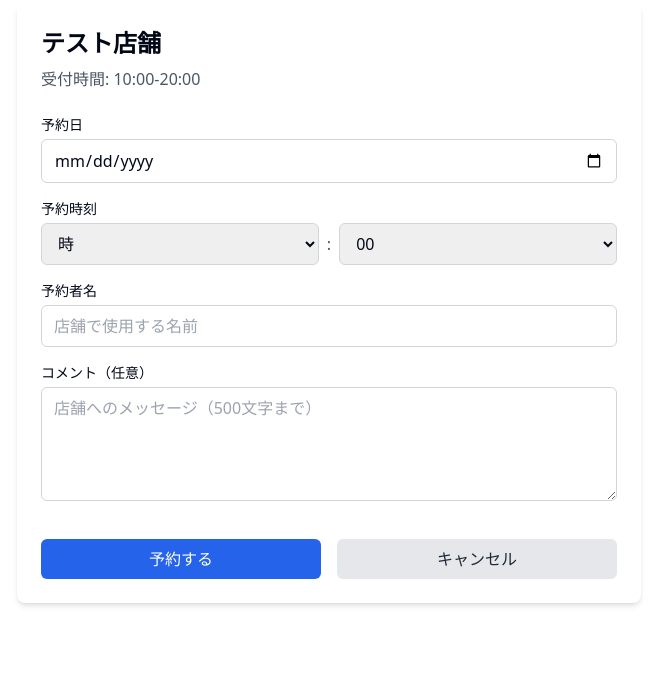
Test: ReservationForm › should display business validation error for past date
Type "2025-12-17" into the date field labelled "予約日" at (329, 161), box [41,139,617,183]
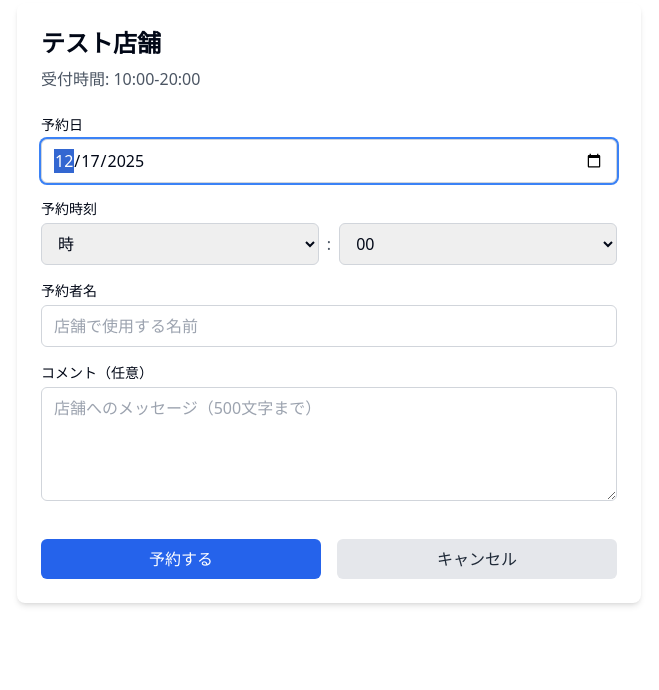
Select "14" in the dropdown named "時" at (180, 244), box [41,223,319,265]
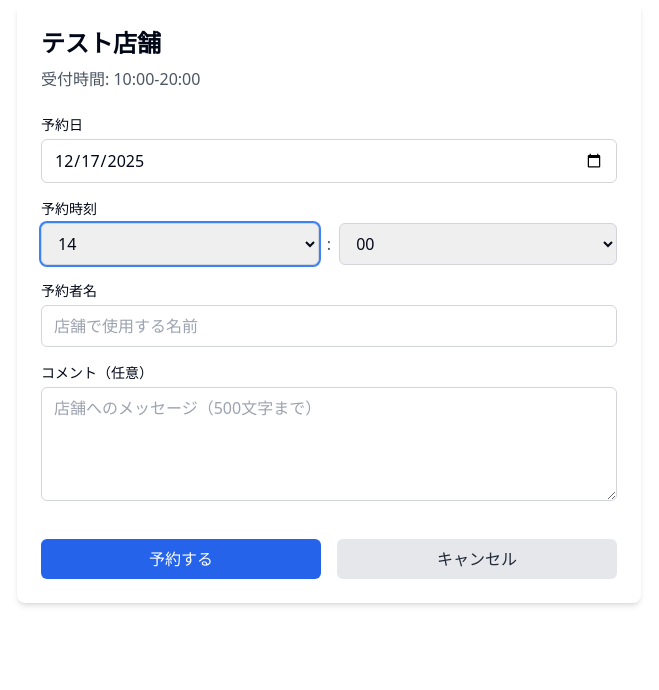
Select "30" in the dropdown named "分" at (478, 244), box [339,223,617,265]
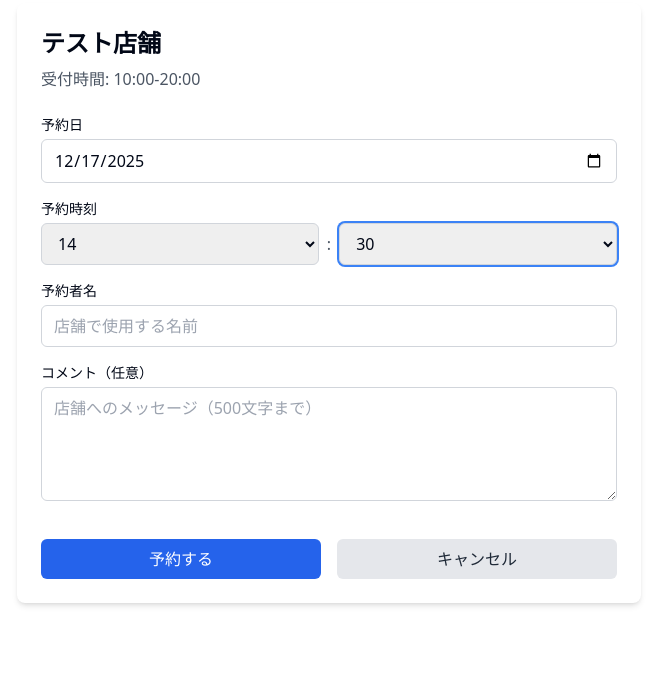
Type "テストユーザー" into the field labelled "予約者名" at (329, 326), box [41,305,617,347]
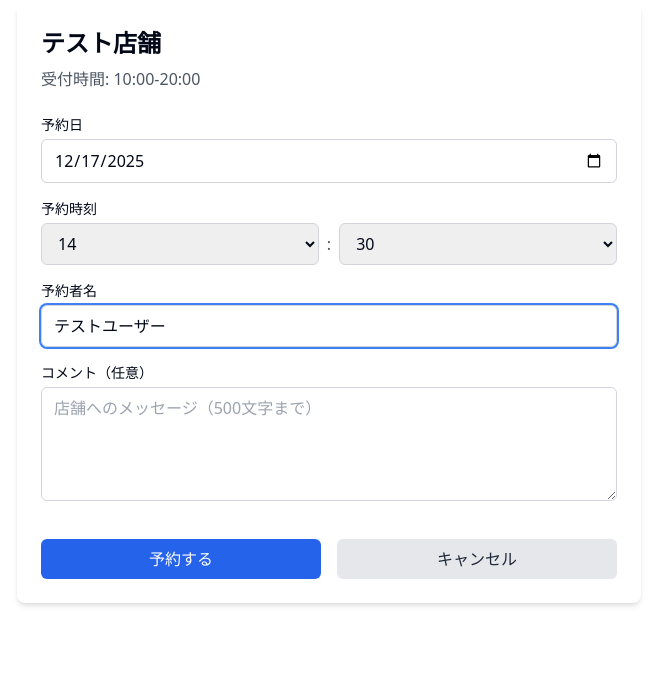
Click the button "予約する" at (181, 559), box [41,539,321,579]
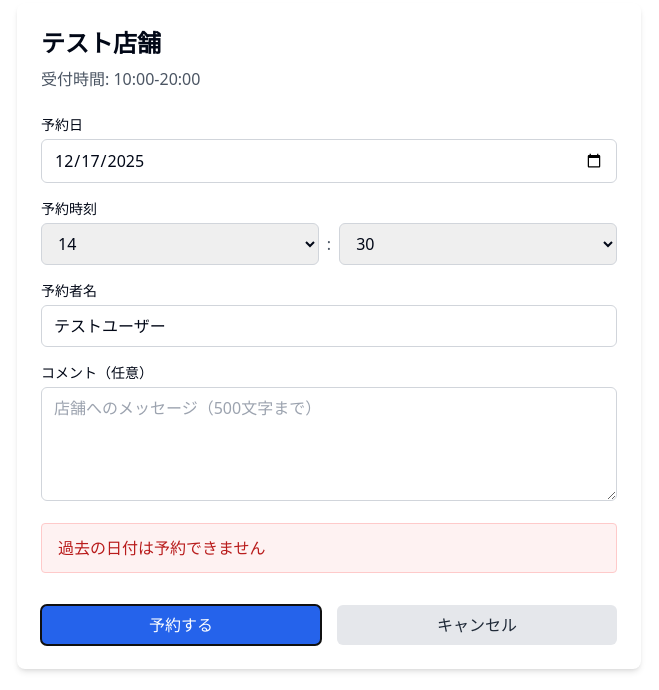
Expected: the text "過去の日付は予約できません" is shown, [41,523,617,573]
